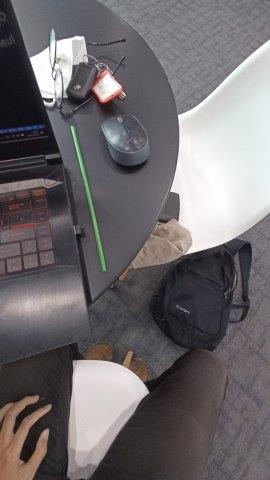sedotan: (71, 127, 105, 272)
